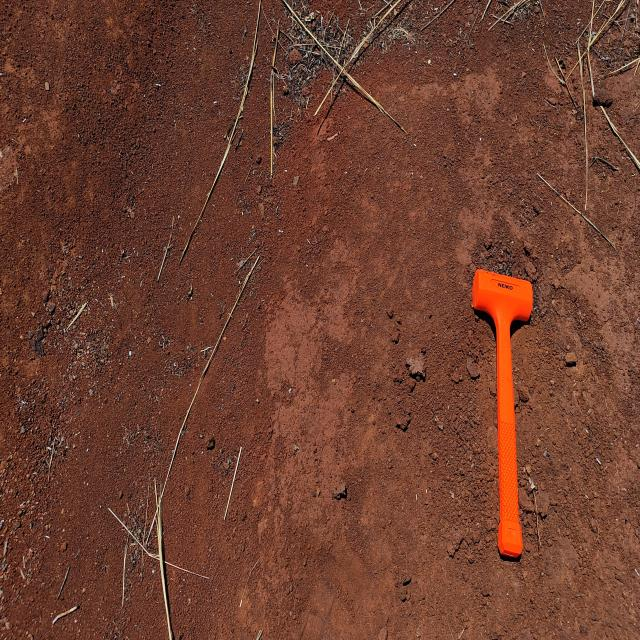Orange_hammer: (472, 267, 534, 560)
